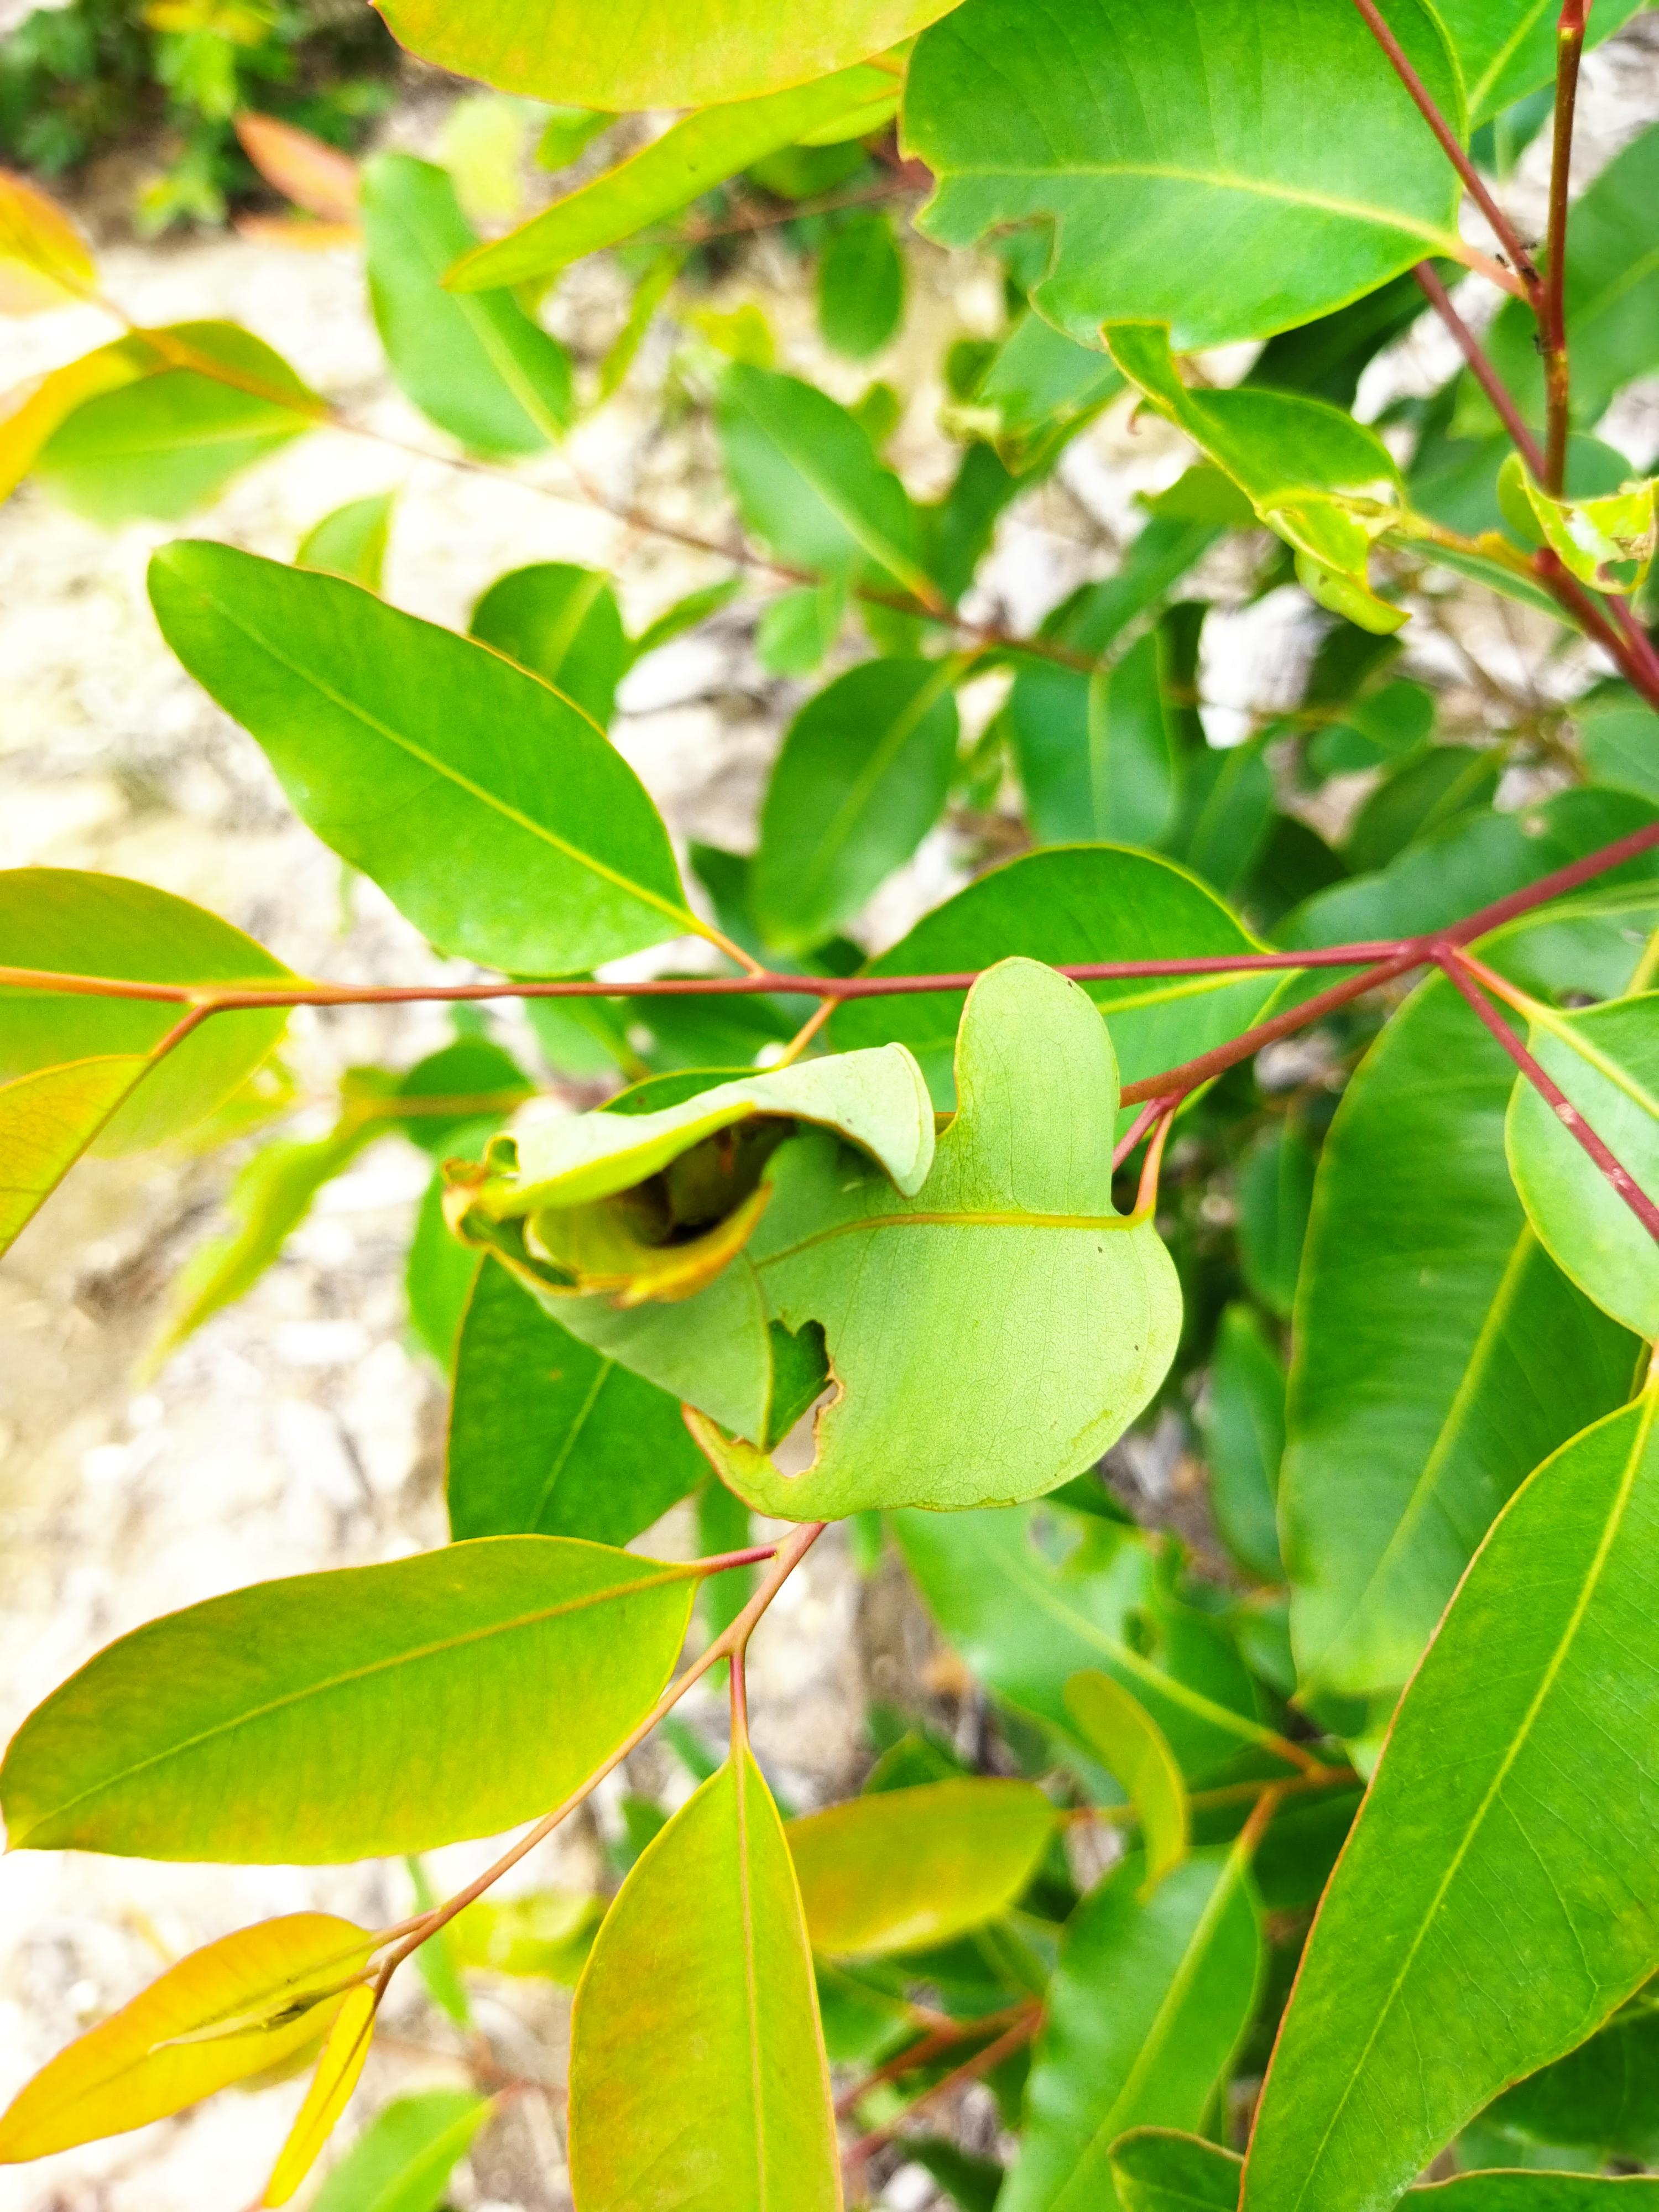Leaf Roller - Leaf: (444, 1096, 1182, 1496)
